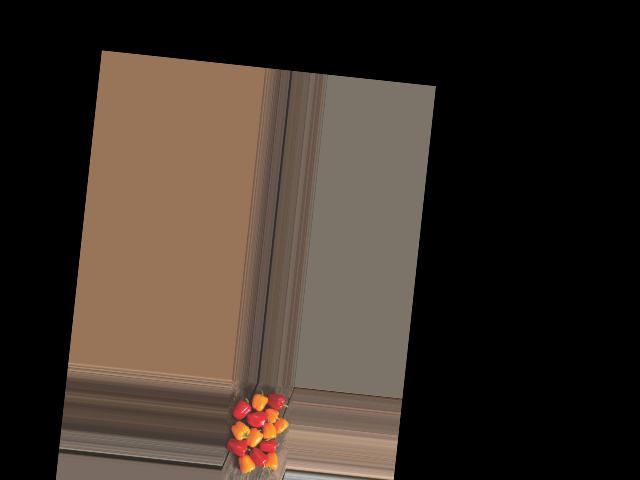bell_pepper: (233, 448, 257, 474)
